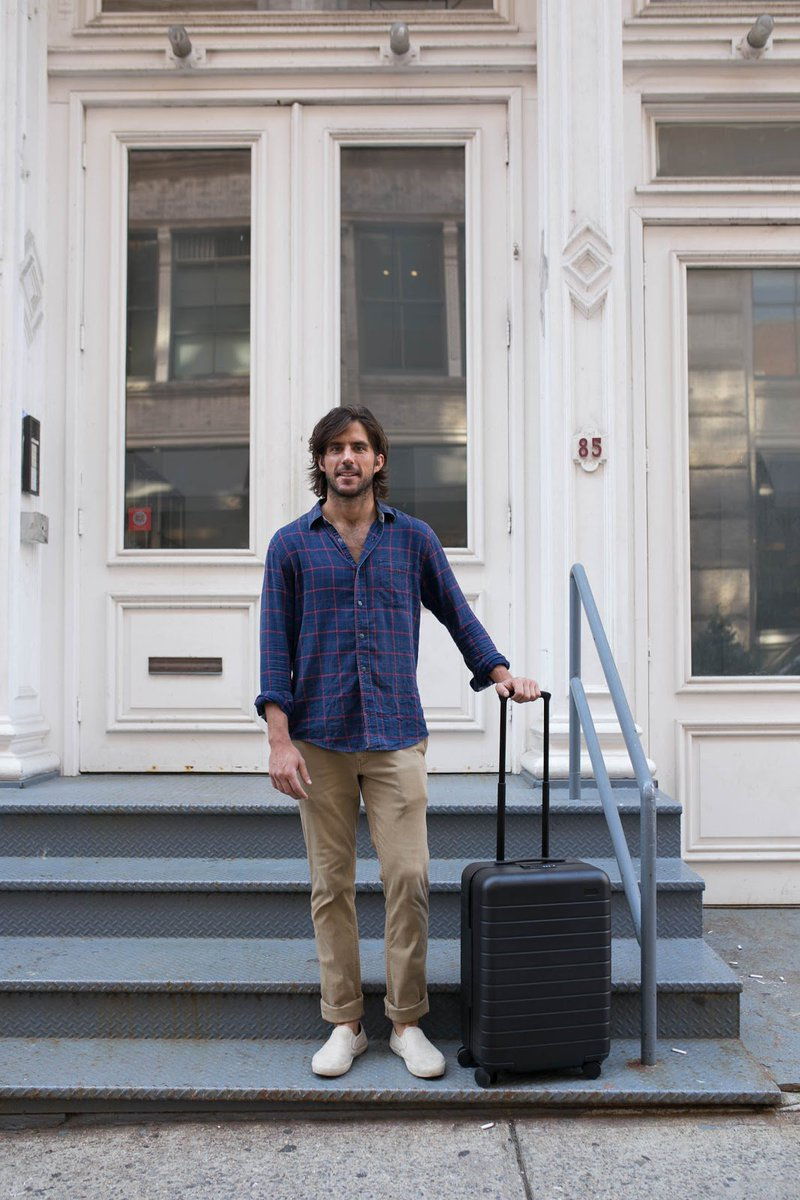luggage: (448, 838, 635, 1103)
